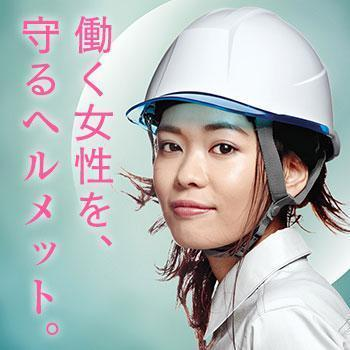helmet: (125, 5, 342, 157)
